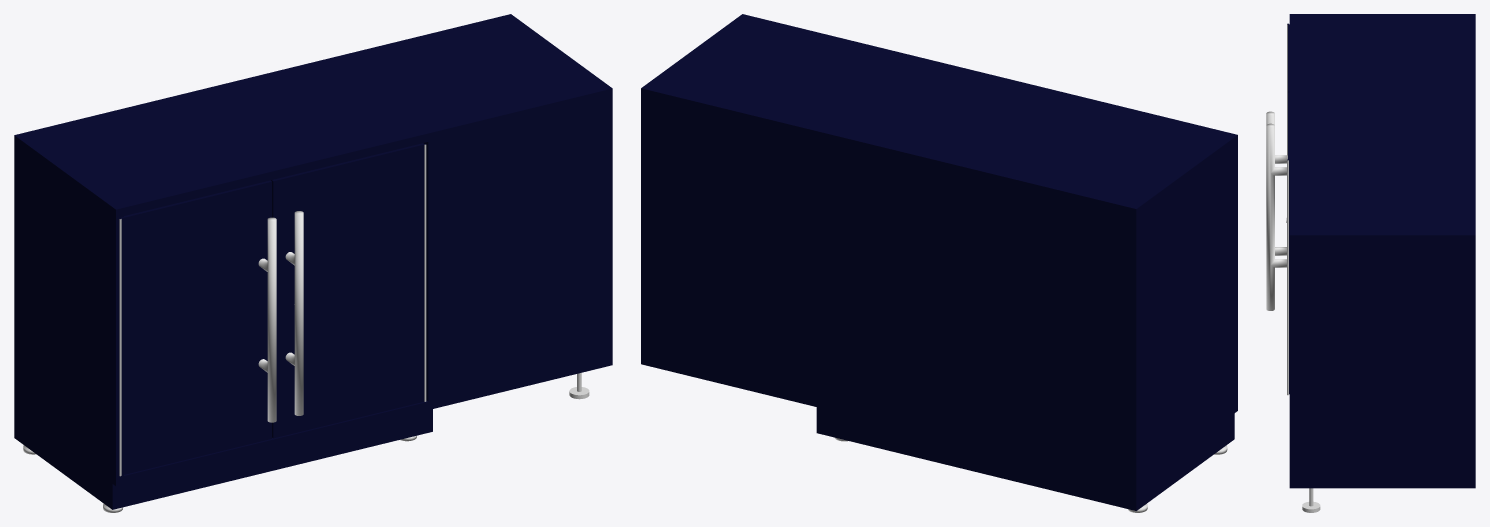
The model's file is door2Base62Lux.glb.
3 renders of one model, left to right at view 1: azimuth 30°, elevation 25°; view 2: azimuth 150°, elevation 25°; view 3: azimuth 270°, elevation 25°, orthographic. The views are drawn at different scales.
Parts seen in each view (by area): view 1: baseShell, doors, handles, hinge; view 2: baseShell; view 3: baseShell, handles, hinge, doors, baseFeet.
Part boxes in pixels (<box>): baseShell: <box>14,14,612,509</box>; doors: <box>119,143,425,475</box>; handles: <box>258,211,303,422</box>; hinge: <box>119,144,426,476</box>; baseShell: <box>641,14,1237,510</box>; baseShell: <box>1289,14,1475,488</box>; handles: <box>1266,111,1287,310</box>; hinge: <box>1287,24,1288,395</box>; doors: <box>1287,23,1289,394</box>; baseFeet: <box>1302,488,1320,512</box>.
Bounding box in the file's own units: 1.57 × 0.9389 × 0.6287.
